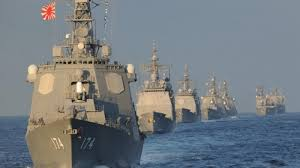tau_muctieu: (20, 4, 145, 168), (140, 50, 174, 136), (172, 65, 199, 126), (198, 74, 223, 123), (215, 71, 239, 121), (250, 84, 277, 119)
